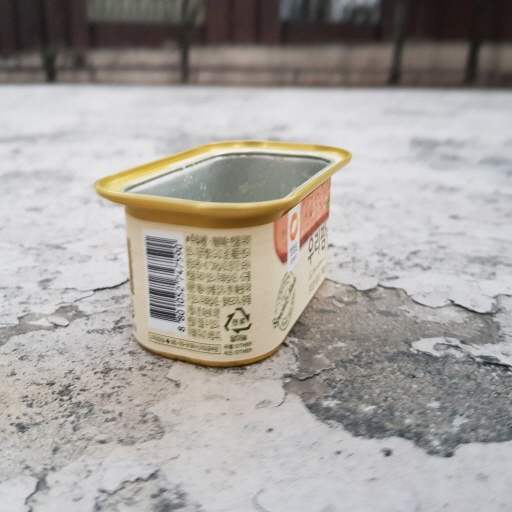Metal_2: (93, 137, 353, 367)
